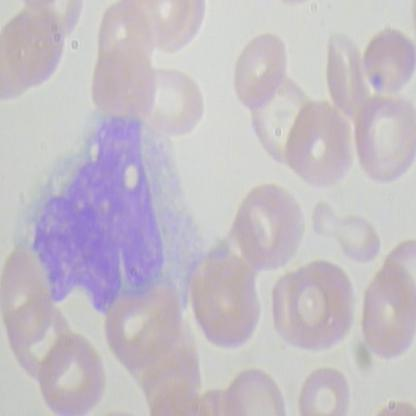RBC: (221, 176, 311, 272), (343, 86, 415, 195), (39, 323, 112, 415), (230, 29, 291, 119), (354, 17, 416, 100)
WBC: (10, 104, 214, 316)
